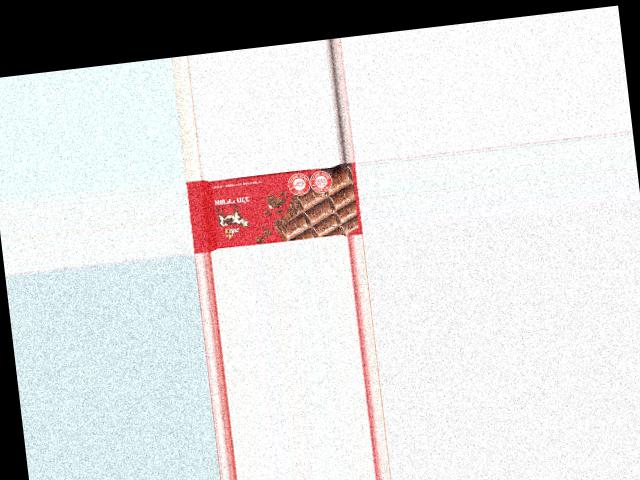chocolate: (184, 162, 361, 252)
